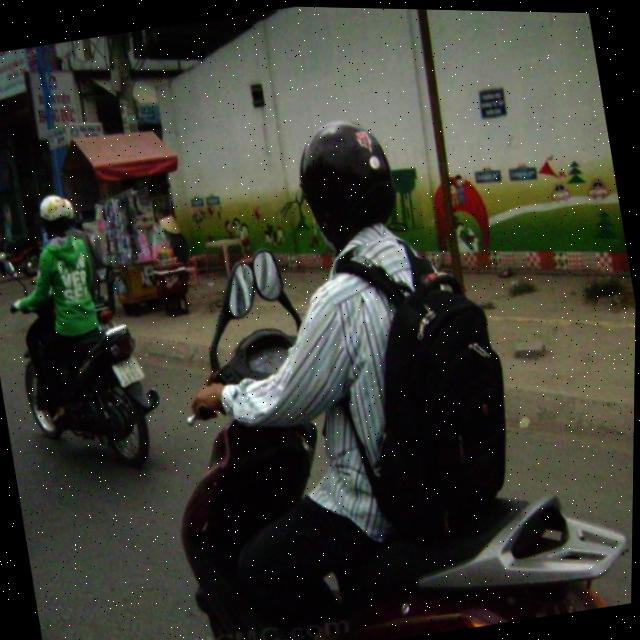motorcycle: (133, 185, 637, 640), (0, 248, 179, 499)
